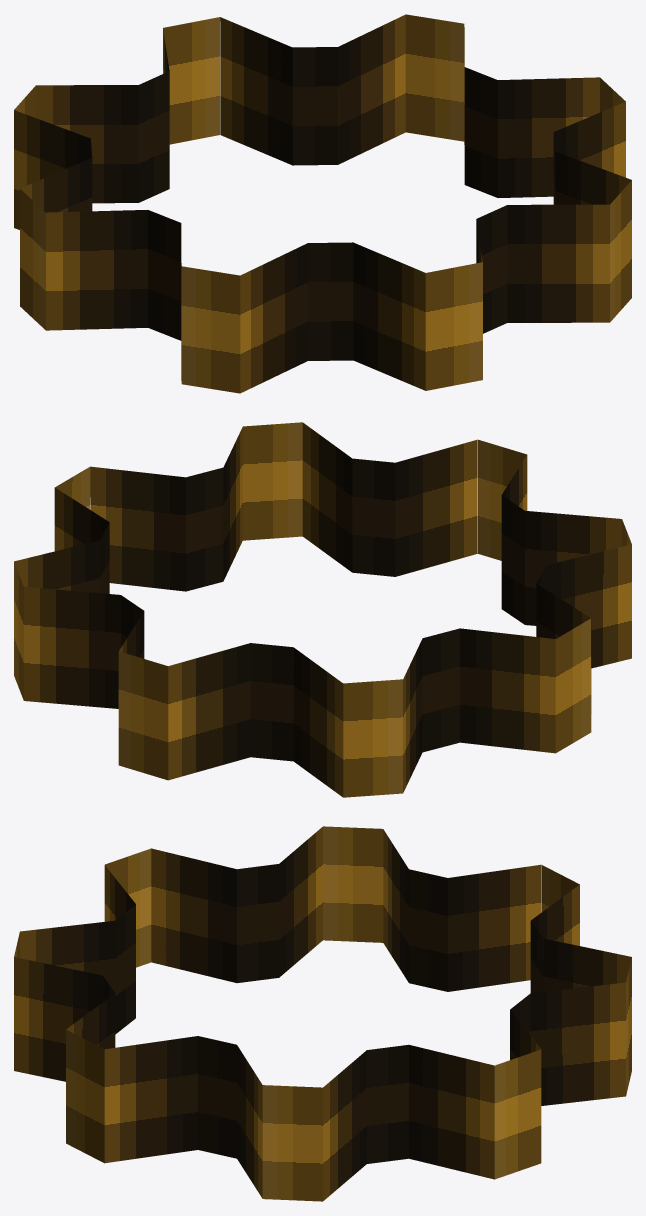
File: engine_gear.obj
3 views of the same model, one above another, from view 1: azimuth 30°, elevation 25°; view 2: azimuth 150°, elevation 25°; view 3: azimuth 270°, elevation 25° (orthographic). The views are drawn at different scales.
Visible parts, largest first — view 1: gear; view 2: gear; view 3: gear.
Boxes of the visible parts, <box> form: gear: <box>14,14,631,393</box>; gear: <box>14,422,631,797</box>; gear: <box>14,826,631,1201</box>.
Size of the model in its own units: 0.9171 by 0.1867 by 0.9171.
